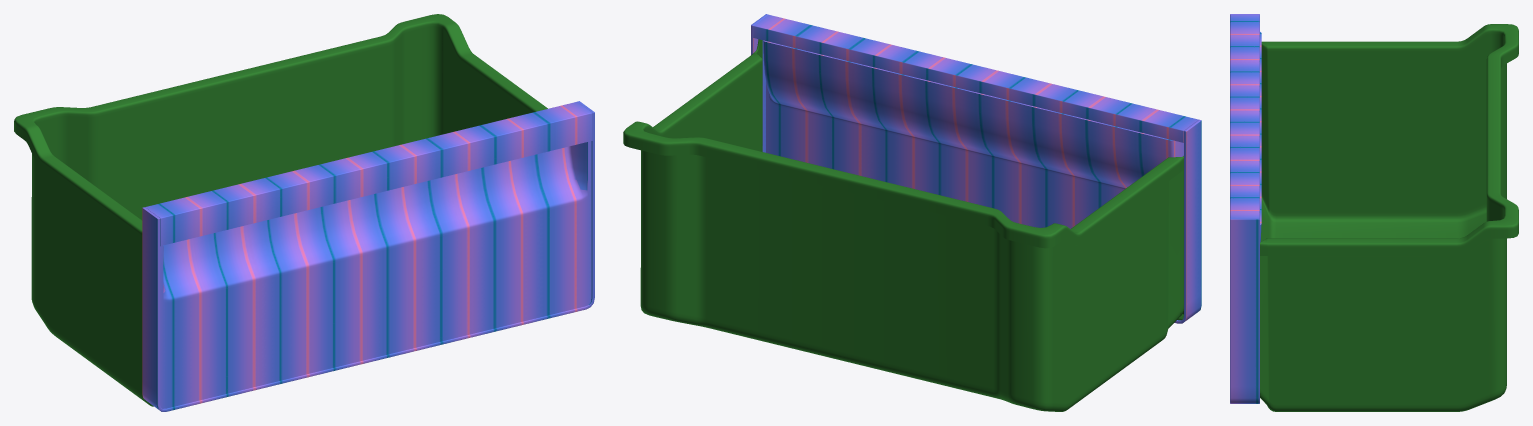
The model's file is SM_Fridge_Drawer_05.fbx.
The picture shows the model from 3 angles, left to right: view 1: azimuth 30°, elevation 25°; view 2: azimuth 150°, elevation 25°; view 3: azimuth 270°, elevation 25°; orthographic projection. The views are drawn at different scales.
Parts seen in each view (by area): view 1: SM_Fridge_Drawer_05; view 2: SM_Fridge_Drawer_05; view 3: SM_Fridge_Drawer_05.
Part boxes in pixels (x1,y1,x2,y2): SM_Fridge_Drawer_05: (14, 14, 594, 411); SM_Fridge_Drawer_05: (623, 14, 1201, 411); SM_Fridge_Drawer_05: (1230, 14, 1518, 411).
Bounding box in the file's own units: 40.9 × 18.7 × 24.3.
3 materials, 2 textured.
